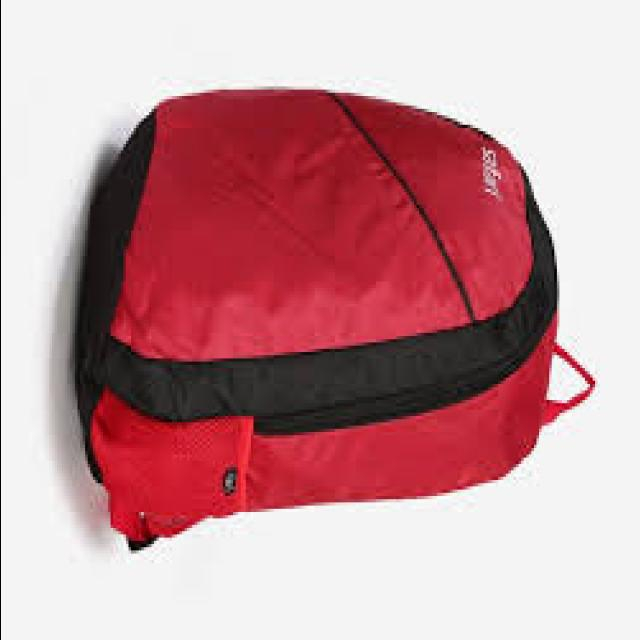backpack: (76, 85, 598, 552)
